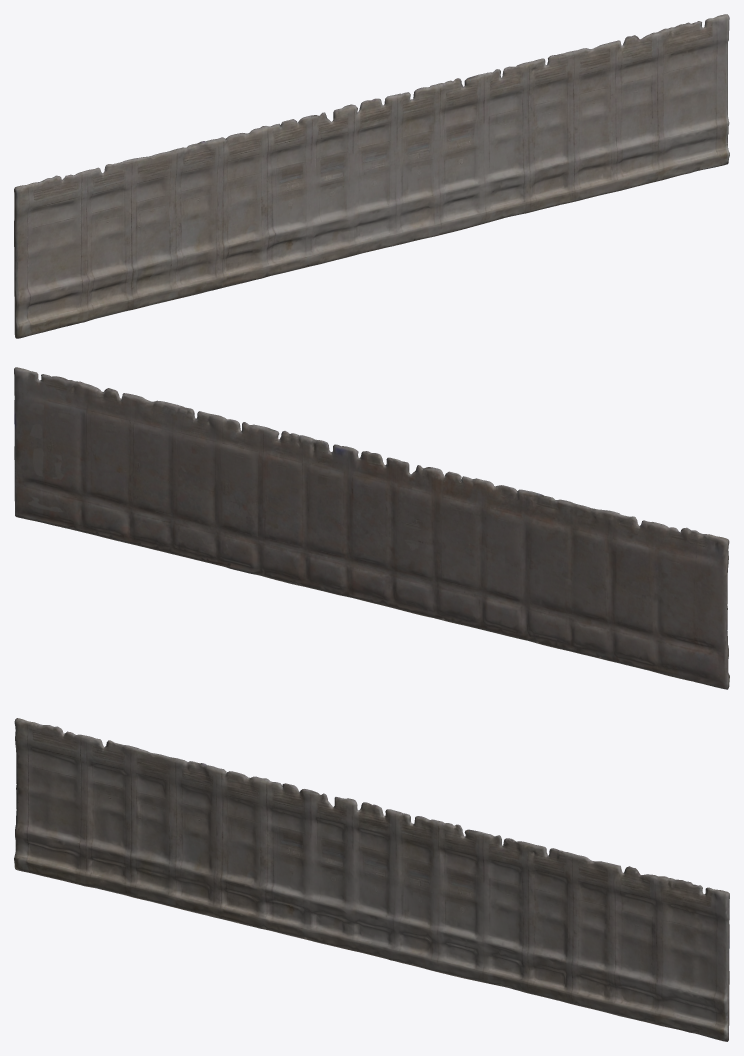
3 views of the same model, one above another, from view 1: azimuth 30°, elevation 25°; view 2: azimuth 150°, elevation 25°; view 3: azimuth 330°, elevation 25° (orthographic).
Visible parts, largest first — view 1: file1; view 2: file1; view 3: file1.
Part boxes in pixels (box(x1,y1,x2,y2)): file1: box(14, 14, 729, 338); file1: box(14, 367, 729, 689); file1: box(14, 718, 729, 1041).
Bounding box in the file's own units: 2.01 × 0.4094 × 0.0261.
1 material, 1 textured.
